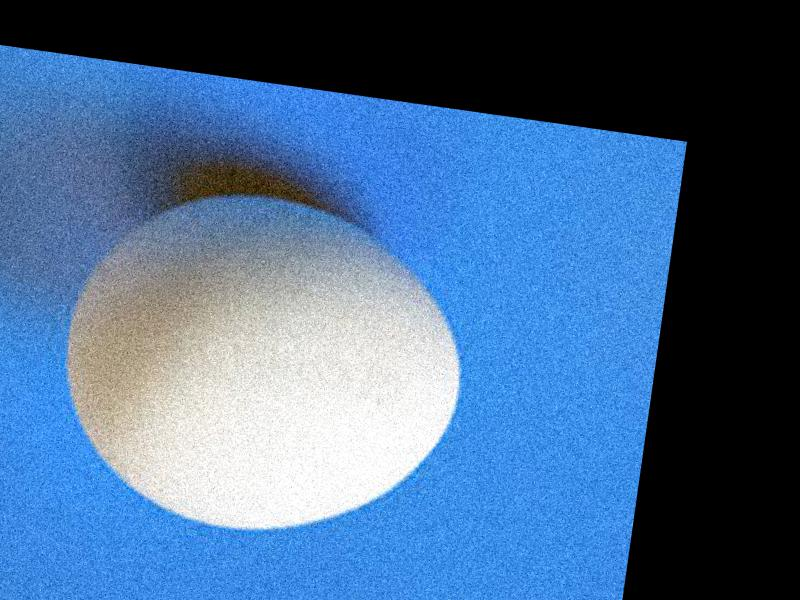Eggs: (42, 169, 486, 556)
